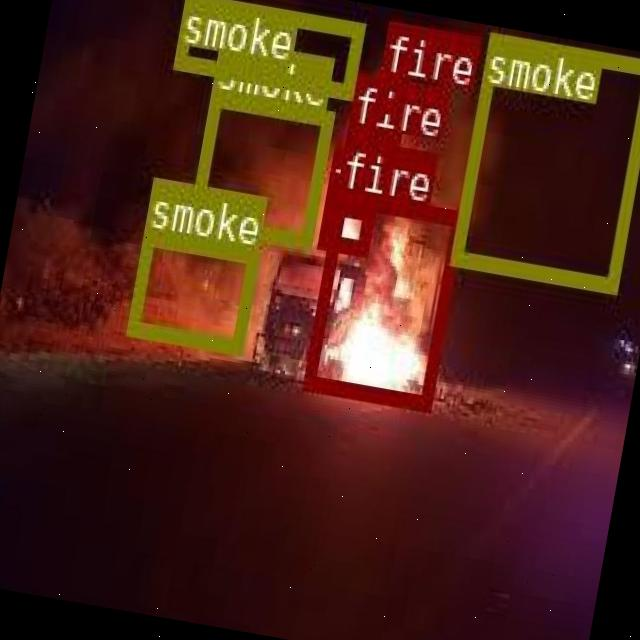fire: (302, 189, 462, 407), (339, 123, 399, 181), (315, 196, 374, 254), (372, 70, 406, 112)
smoke: (449, 32, 640, 289), (185, 87, 332, 246), (173, 0, 362, 94), (125, 228, 258, 352)
